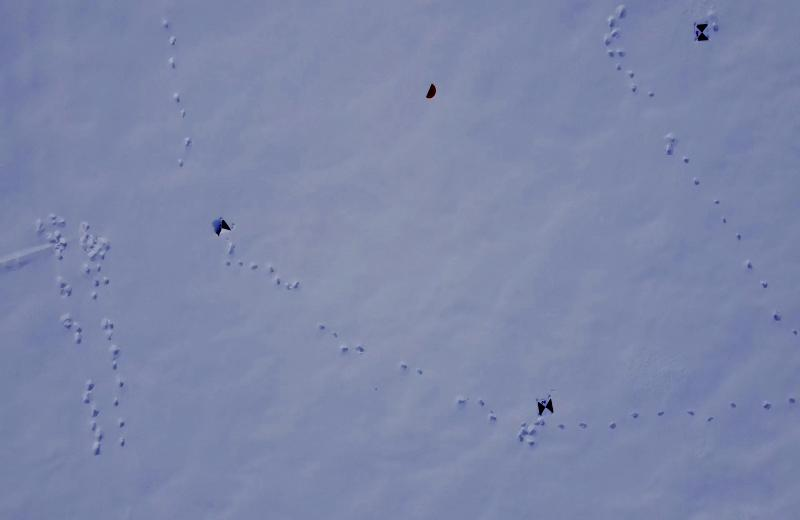Semi Circle: (425, 84, 436, 100)
